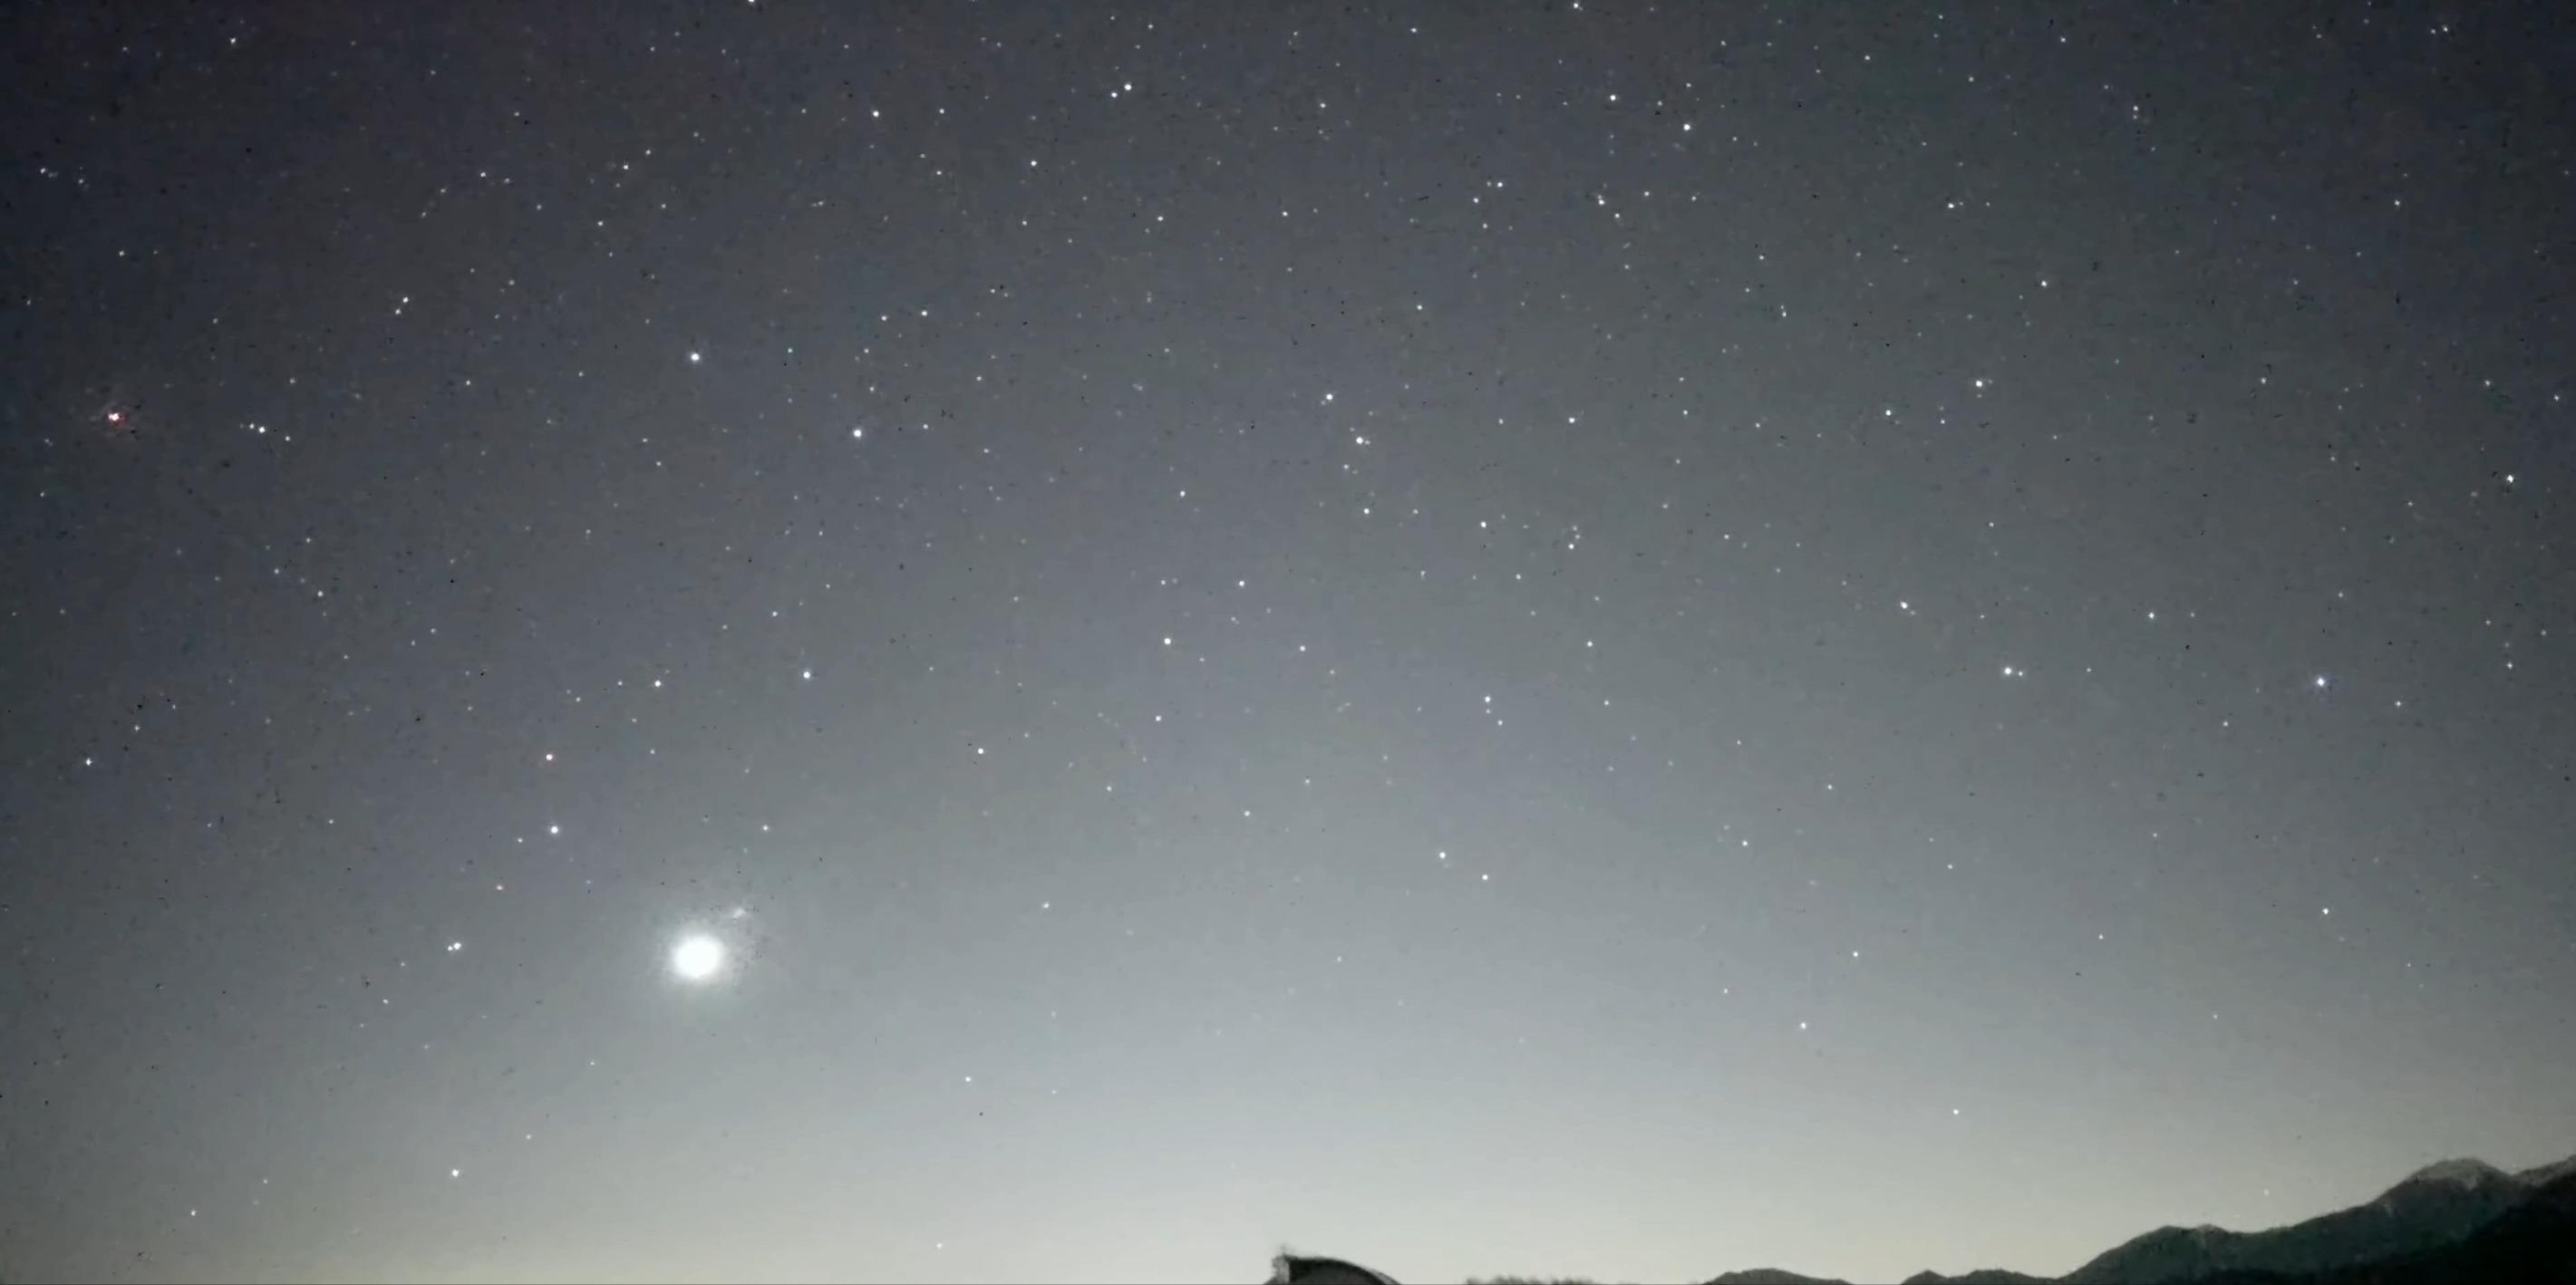Plane: (97, 398, 130, 435)
